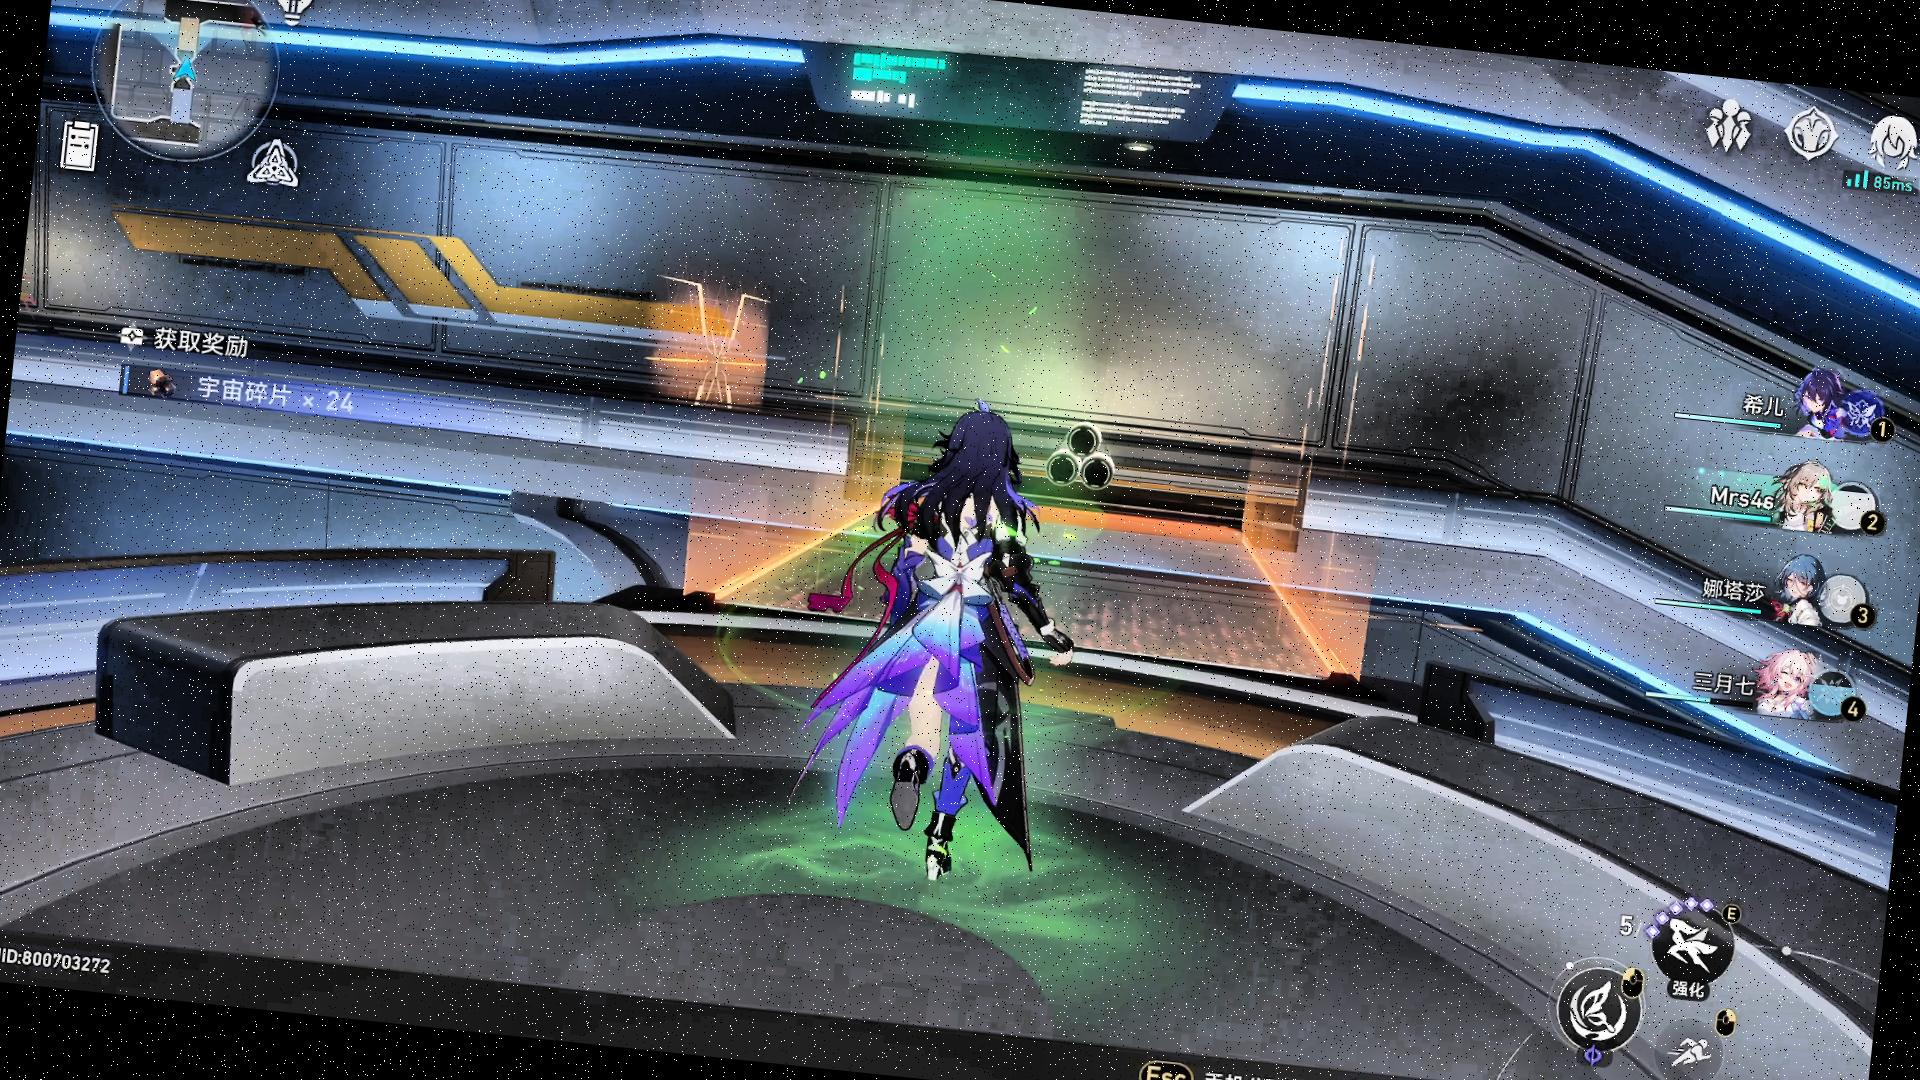Box: (1043, 415, 1121, 498)
Self: (785, 398, 1097, 903)
